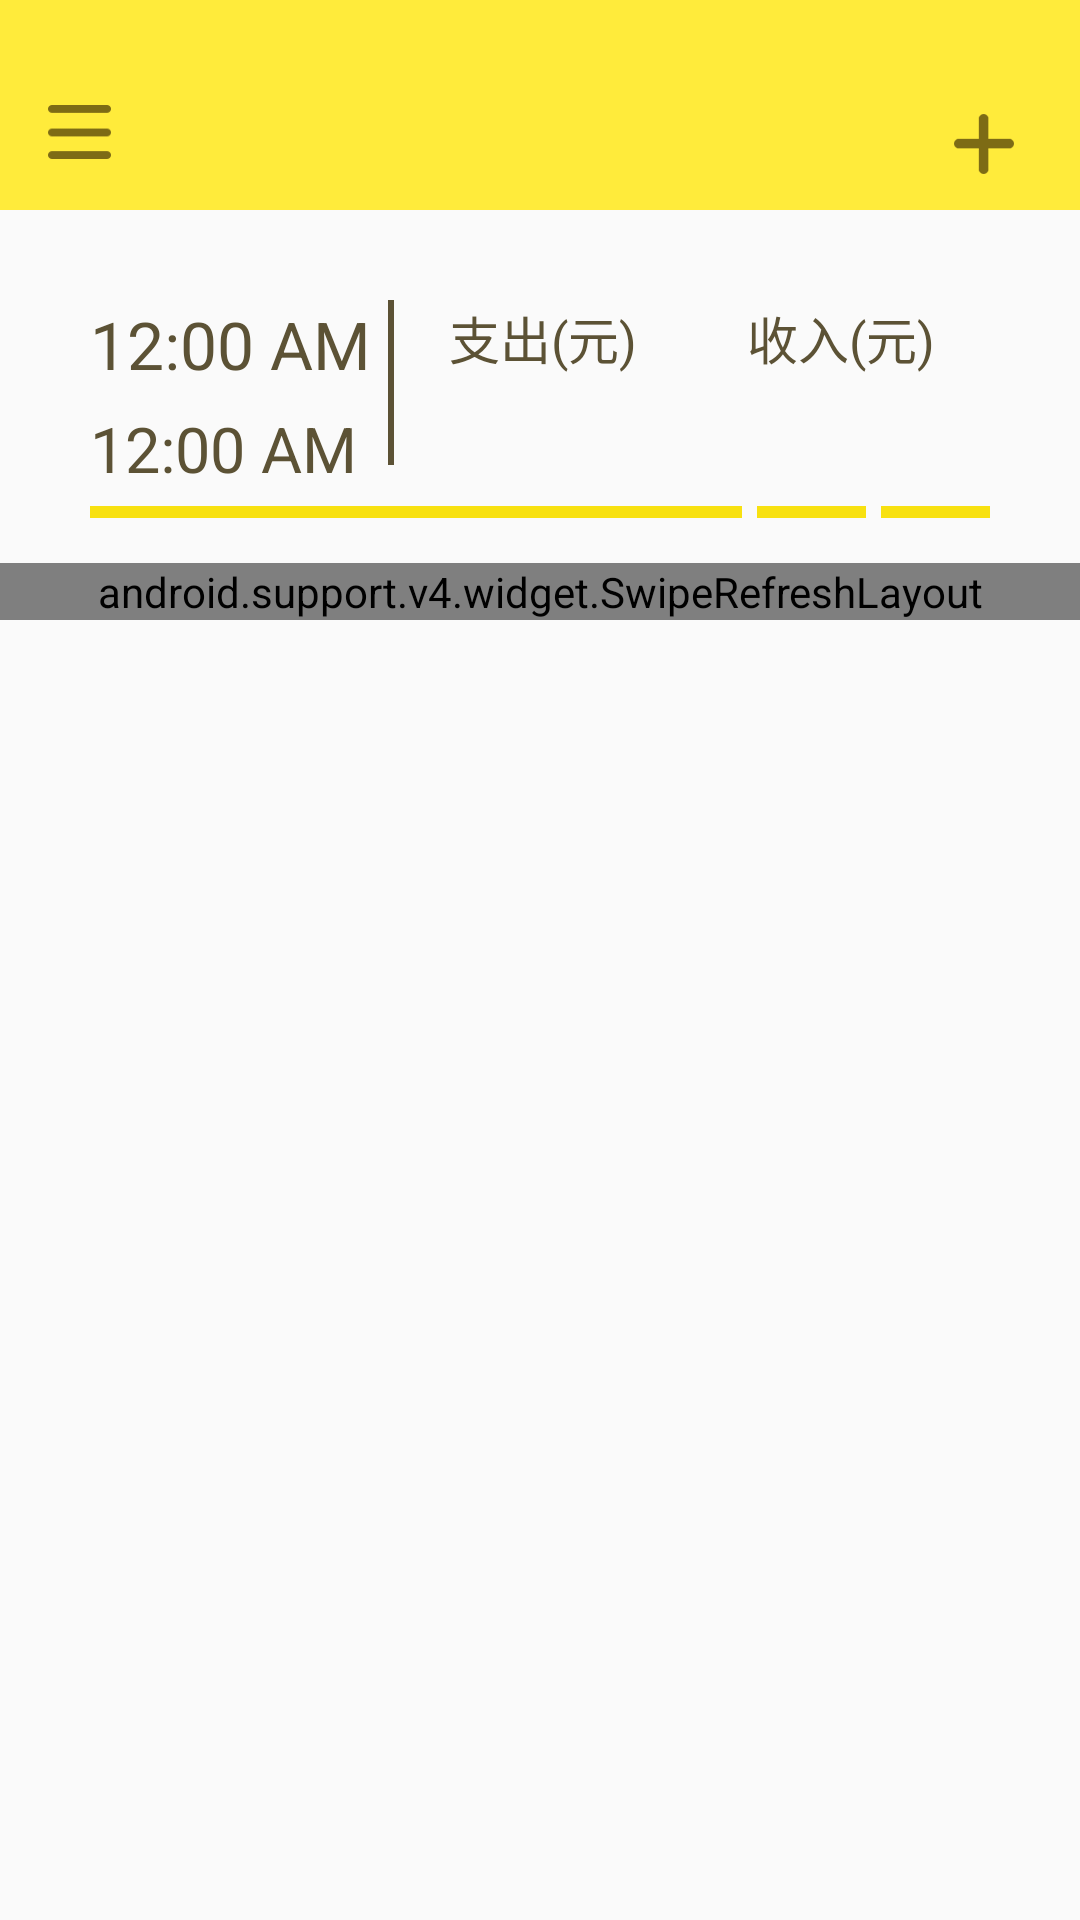

Icon bounding boxes for this 1080×1920 phone screenshot, format (x1, y1, x2, y2):
tianjiaxiangqing: (954, 114, 1014, 174)
